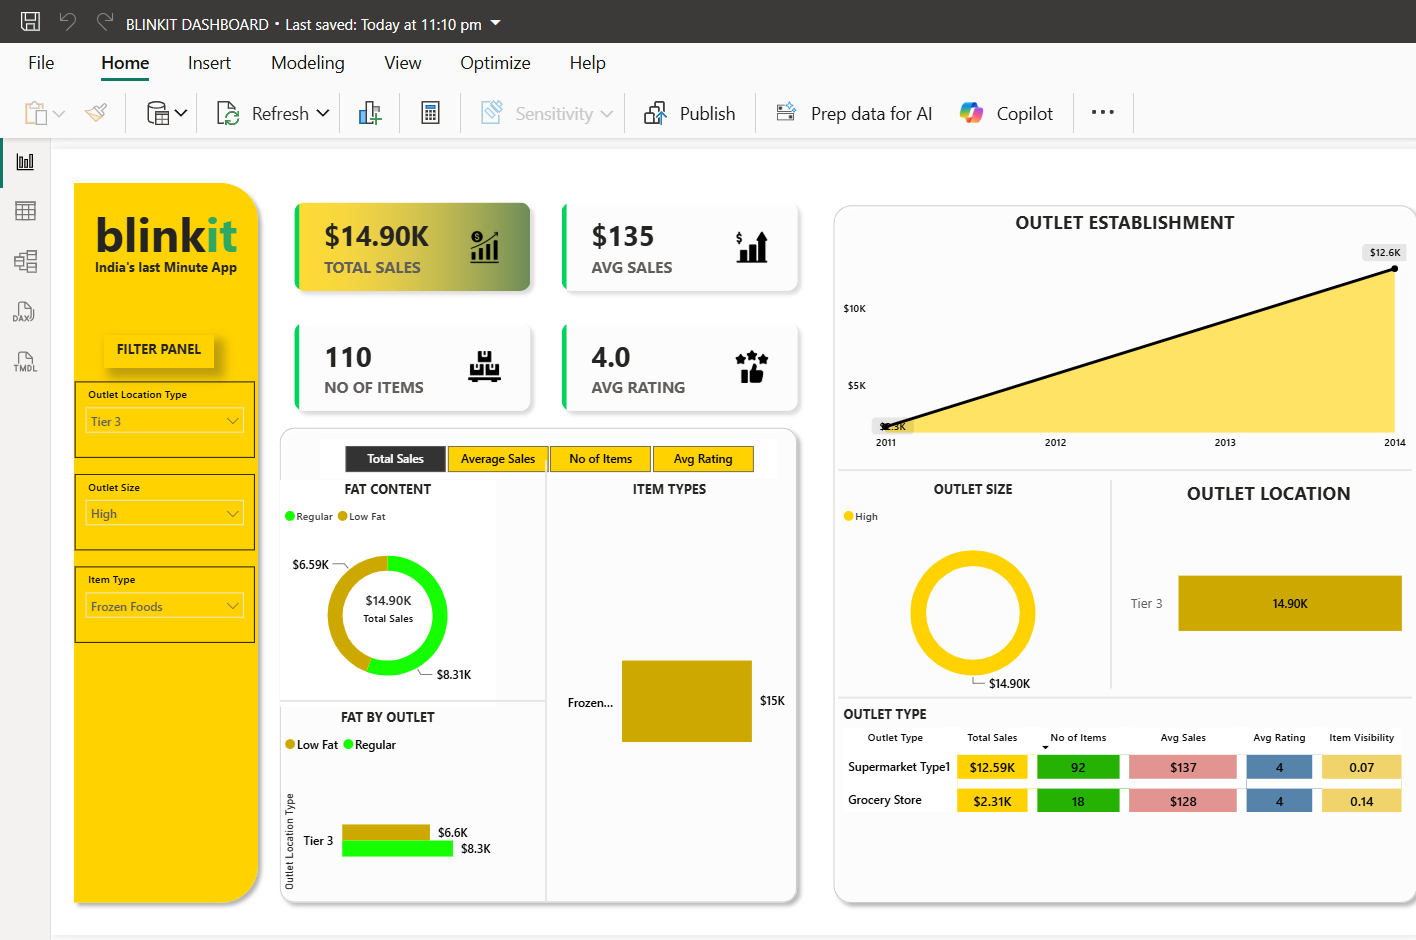

This screenshot's page, from the dashboard's own definition file:
{"tool":"powerbi","page":{"name":"Page 1","canvas":[1400,800],"ordinal":0},"visuals":[{"type":"shape","box":[13.5,25.5,205.6,750.4],"z":0},{"type":"textbox","box":[33,48,168.1,90.1],"z":1000},{"type":"textbox","box":[25.5,105.1,183.1,33],"z":2000},{"type":"cardVisual","fields":{"Data":["BlinkIT Grocery Data.Total Sales","BlinkIT Grocery Data.Average Sales","BlinkIT Grocery Data.No of Items","BlinkIT Grocery Data.Avg Rating"]},"box":[219.1,25.5,570.3,270.2],"z":3000},{"type":"shape","box":[223.9,274.6,544.2,500.9],"z":4000},{"type":"donutChart","title":"FAT CONTENT","fields":{"Y":["BlinkIT Grocery Data.Total Sales"],"Category":["BlinkIT Grocery Data.Item Fat Content"]},"box":[233.2,336.5,219.8,230.6],"z":5000},{"type":"slicer","fields":{"Values":["Metrics.Metrics"]},"box":[273.2,295.7,465.3,40.5],"z":6000},{"type":"cardVisual","fields":{"Data":["BlinkIT Grocery Data.Total Sales"]},"box":[272.1,424.9,142.1,83.1],"z":7000},{"type":"clusteredBarChart","title":"FAT BY OUTLET","fields":{"Y":["BlinkIT Grocery Data.Total Sales"],"Category":["BlinkIT Grocery Data.Outlet Location Type"],"Series":["BlinkIT Grocery Data.Item Fat Content"]},"box":[232.7,568.5,220,218.8],"z":8000},{"type":"shape","box":[233.2,548.3,270.8,26.8],"z":9000},{"type":"shape","box":[478.6,316.4,50.9,449.1],"z":10000},{"type":"barChart","title":"ITEM TYPES","fields":{"Y":["BlinkIT Grocery Data.Total Sales"],"Category":["BlinkIT Grocery Data.Item Type"]},"box":[505.9,336.4,246.1,429.2],"z":11000},{"type":"shape","box":[786.9,48.3,612.6,727.9],"z":12000},{"type":"lineChart","title":"OUTLET ESTABLISHMENT","fields":{"Category":["BlinkIT Grocery Data.Outlet Establishment Year"],"Y":["BlinkIT Grocery Data.Total Sales"]},"box":[801.6,61.7,583.1,254.7],"z":13000},{"type":"shape","box":[801.6,316.4,583.1,20.1],"z":14000},{"type":"donutChart","title":"OUTLET SIZE","fields":{"Y":["BlinkIT Grocery Data.Total Sales"],"Category":["BlinkIT Grocery Data.Outlet Size"]},"box":[801.6,336.5,274,225],"z":15000},{"type":"shape","box":[1053.6,336.5,50.9,211.8],"z":16000},{"type":"funnel","title":"OUTLET LOCATION","fields":{"Y":["Sum(BlinkIT Grocery Data.Sales)"],"Category":["BlinkIT Grocery Data.Outlet Location Type"]},"box":[1093.8,336.5,290.9,225.2],"z":17000},{"type":"shape","box":[801.6,548.3,583.1,20.1],"z":18000},{"type":"pivotTable","title":"OUTLET TYPE","fields":{"Rows":["BlinkIT Grocery Data.Outlet Type"],"Values":["BlinkIT Grocery Data.Total Sales","BlinkIT Grocery Data.No of Items","BlinkIT Grocery Data.Average Sales","BlinkIT Grocery Data.Avg Rating","Avg(BlinkIT Grocery Data.Item Visibility)"]},"box":[801.6,565.7,583.1,194.4],"z":19000},{"type":"slicer","fields":{"Values":["BlinkIT Grocery Data.Outlet Location Type"]},"box":[24.2,236.6,183.1,77.6],"z":20000},{"type":"slicer","fields":{"Values":["BlinkIT Grocery Data.Outlet Size"]},"box":[24.2,330.7,183.1,77.6],"z":21000},{"type":"slicer","fields":{"Values":["BlinkIT Grocery Data.Item Type"]},"box":[24.2,424.8,183.1,77.6],"z":22000},{"type":"textbox","box":[53.6,189,112.6,33.5],"z":23000}]}

Visuals, with their boxes on the page's 1400x800 design canvas (x1, y1, x2, y2). These are canvas units, not pixel positions in the 1416x940 screenshot, which may show the page scaled, cropped or inside an application window:
shape: l=14, t=26, r=219, b=776
textbox: l=33, t=48, r=201, b=138
textbox: l=26, t=105, r=209, b=138
cardVisual - BlinkIT Grocery Data.Total Sales x BlinkIT Grocery Data.Average Sales: l=219, t=26, r=789, b=296
shape: l=224, t=275, r=768, b=776
"FAT CONTENT" donutChart: l=233, t=336, r=453, b=567
slicer - Metrics.Metrics: l=273, t=296, r=738, b=336
cardVisual - BlinkIT Grocery Data.Total Sales: l=272, t=425, r=414, b=508
"FAT BY OUTLET" clusteredBarChart: l=233, t=568, r=453, b=787
shape: l=233, t=548, r=504, b=575
shape: l=479, t=316, r=530, b=766
"ITEM TYPES" barChart: l=506, t=336, r=752, b=766
shape: l=787, t=48, r=1400, b=776
"OUTLET ESTABLISHMENT" lineChart: l=802, t=62, r=1385, b=316
shape: l=802, t=316, r=1385, b=336
"OUTLET SIZE" donutChart: l=802, t=336, r=1076, b=562
shape: l=1054, t=336, r=1104, b=548
"OUTLET LOCATION" funnel: l=1094, t=336, r=1385, b=562
shape: l=802, t=548, r=1385, b=568
"OUTLET TYPE" pivotTable: l=802, t=566, r=1385, b=760
slicer - BlinkIT Grocery Data.Outlet Location Type: l=24, t=237, r=207, b=314
slicer - BlinkIT Grocery Data.Outlet Size: l=24, t=331, r=207, b=408
slicer - BlinkIT Grocery Data.Item Type: l=24, t=425, r=207, b=502
textbox: l=54, t=189, r=166, b=222
